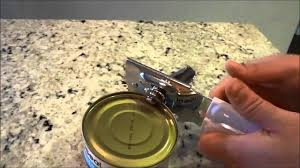can: (80, 87, 182, 168)
